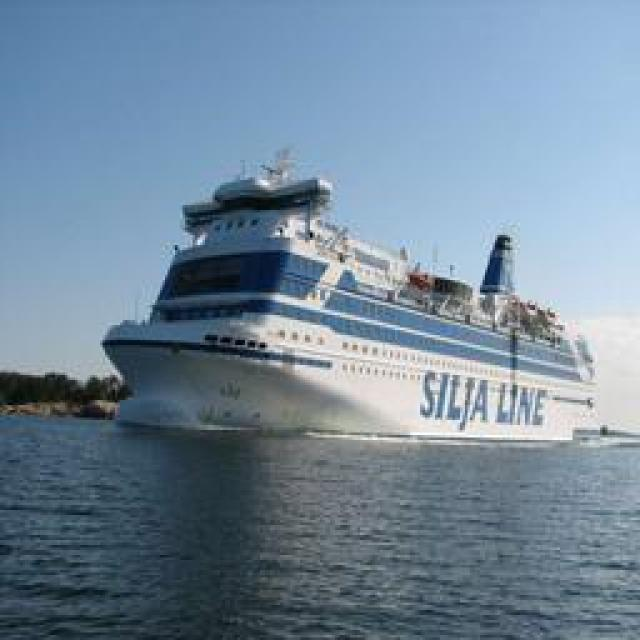ship2: (99, 144, 594, 441)
